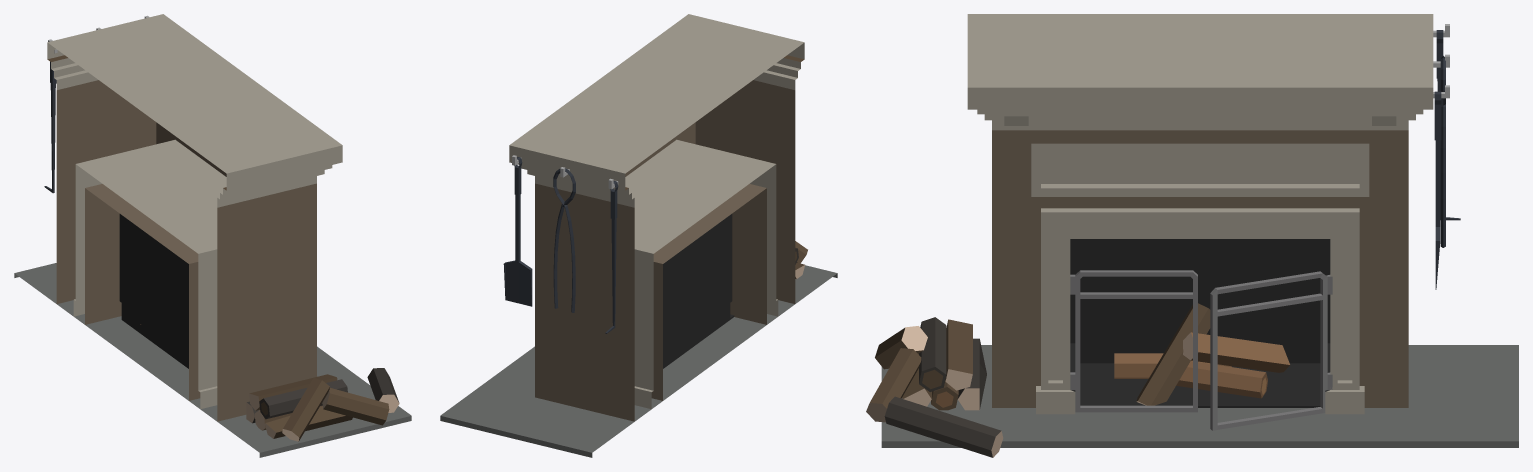
File: SM_firePlace_01.glb
3 views of the same model, side by side, from view 1: azimuth 30°, elevation 25°; view 2: azimuth 150°, elevation 25°; view 3: azimuth 270°, elevation 25° (orthographic). The views are drawn at different scales.
Parts seen in each view (by area): view 1: SM_firePlace_01; view 2: SM_firePlace_01; view 3: SM_firePlace_01.
Part boxes in pixels (x1=…): SM_firePlace_01: x1=14, y1=14, x2=411, y2=457; SM_firePlace_01: x1=440, y1=14, x2=837, y2=457; SM_firePlace_01: x1=866, y1=14, x2=1518, y2=457.
Size of the model in its own units: 1.05 by 1.55 by 2.66.
1 material, 1 textured.
